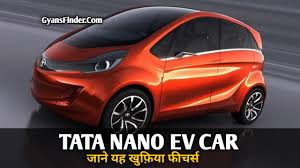Nano: (27, 5, 267, 132)
